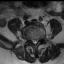CCS_stenosis: (34, 36, 36, 46)
LFS_stenosis: (38, 35, 40, 42)
LLS_normal: (36, 36, 38, 44)
RFS_stenosis: (29, 36, 32, 42)
RLS_stenosis: (31, 36, 34, 44)
